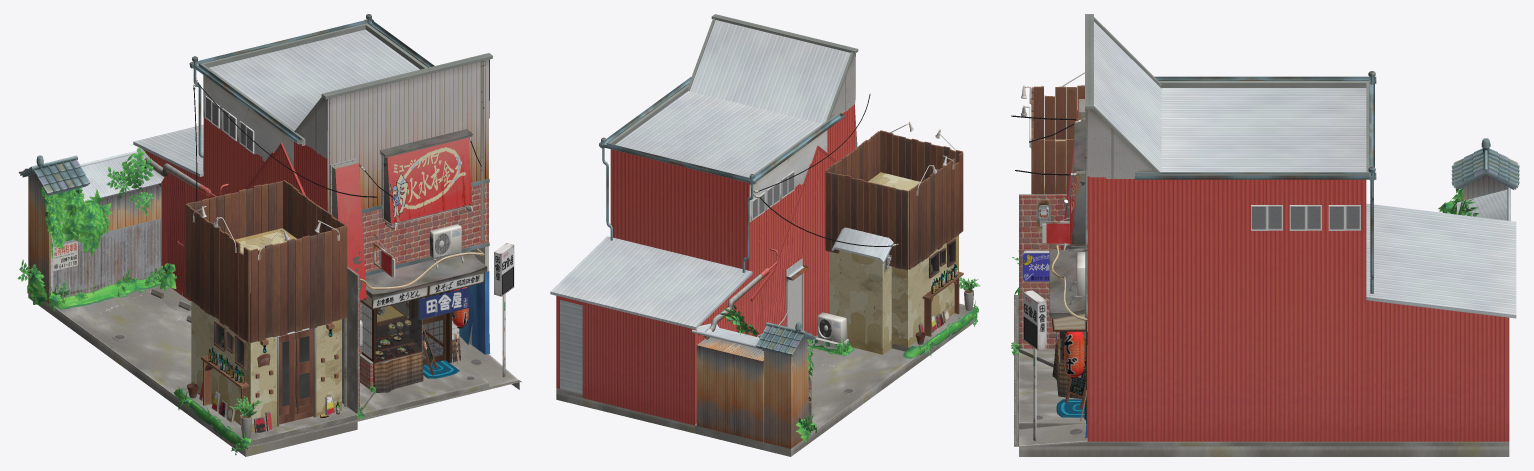
Rendered from inakaya-exterior.glb.
The picture shows the model from 3 angles, left to right: view 1: azimuth 30°, elevation 25°; view 2: azimuth 150°, elevation 25°; view 3: azimuth 270°, elevation 25°; orthographic projection. The views are drawn at different scales.
Visible parts, largest first — view 1: Inakaya 0, Inakaya 1, Inakaya 5, Inakaya 3; view 2: Inakaya 0, Inakaya 1, Inakaya 5; view 3: Inakaya 0, Inakaya 1, Inakaya 5.
Boxes of the visible parts, <box> form: Inakaya 0: <box>18,14,521,456</box>; Inakaya 1: <box>183,180,443,446</box>; Inakaya 5: <box>17,147,469,455</box>; Inakaya 3: <box>215,298,421,365</box>; Inakaya 0: <box>550,14,977,456</box>; Inakaya 1: <box>825,122,974,354</box>; Inakaya 5: <box>718,255,980,444</box>; Inakaya 0: <box>1011,14,1519,456</box>; Inakaya 1: <box>1021,85,1084,194</box>; Inakaya 5: <box>1011,188,1478,356</box>.
Bounding box in the file's own units: 6.28 × 6.15 × 8.01.
Materials: 5 (3 with a texture image).
